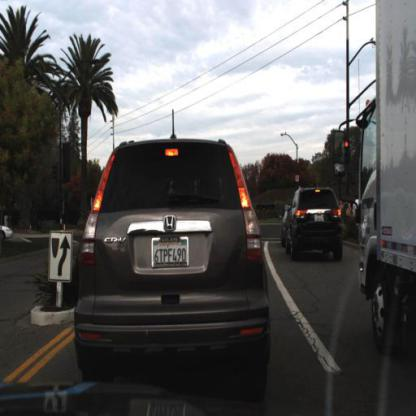car: (77, 136, 270, 391), (285, 187, 345, 259), (1, 221, 15, 243)
truck: (357, 3, 416, 368)
